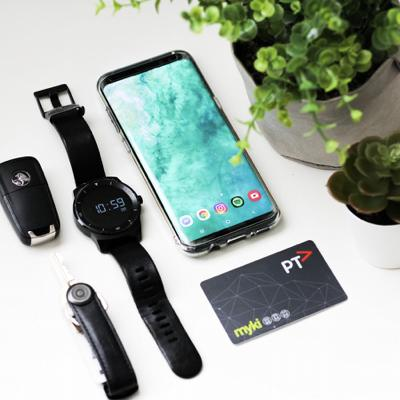Mobile Phone: (95, 48, 282, 257)
